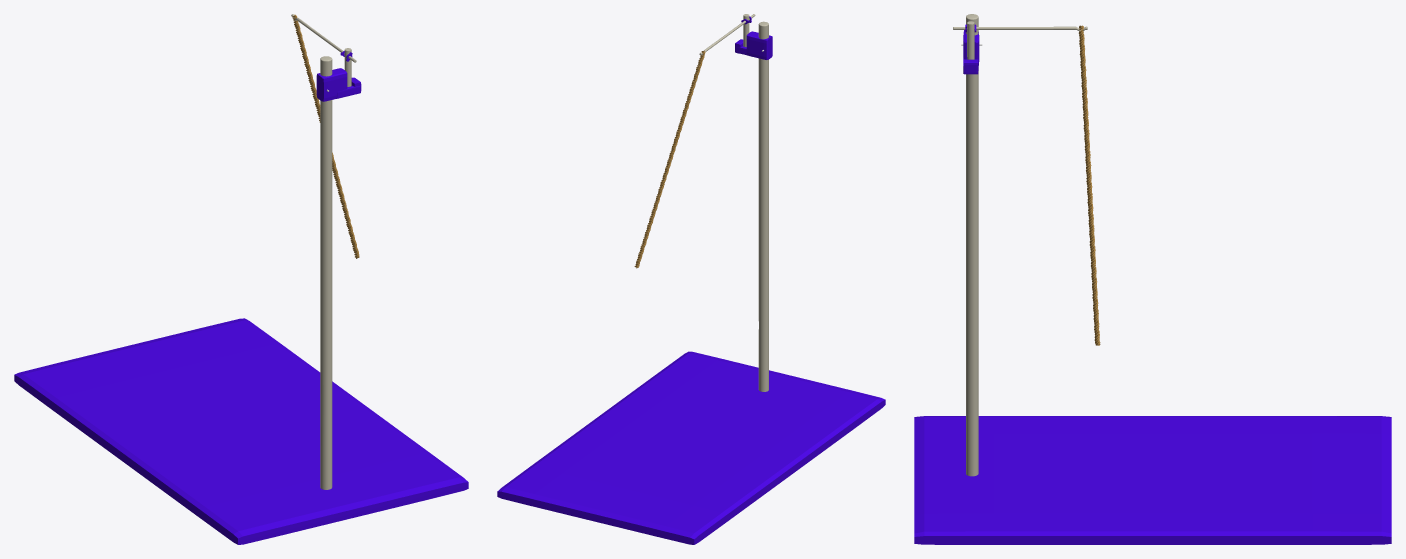
Rendered from RetortStand.fbx.
3 views of the same model, side by side, from view 1: azimuth 30°, elevation 25°; view 2: azimuth 150°, elevation 25°; view 3: azimuth 270°, elevation 25° (orthographic). The views are drawn at different scales.
Parts seen in each view (by area): view 1: Cube, Stand, Crinch, Circle.001; view 2: Cube, Stand, Circle.001, Crinch; view 3: Cube, Stand, Circle.001, Crinch.
Part boxes in pixels (x1,y1,x2,y2): Cube: [14, 318, 468, 544]; Stand: [320, 56, 332, 489]; Crinch: [316, 48, 361, 101]; Circle.001: [292, 14, 359, 258]; Cube: [497, 351, 885, 544]; Stand: [758, 21, 768, 391]; Circle.001: [634, 51, 705, 268]; Crinch: [735, 14, 772, 59]; Cube: [914, 416, 1391, 544]; Stand: [966, 14, 978, 476]; Circle.001: [1078, 25, 1100, 345]; Crinch: [963, 21, 979, 74].
Size of the model in its own units: 119 by 220 by 200.
